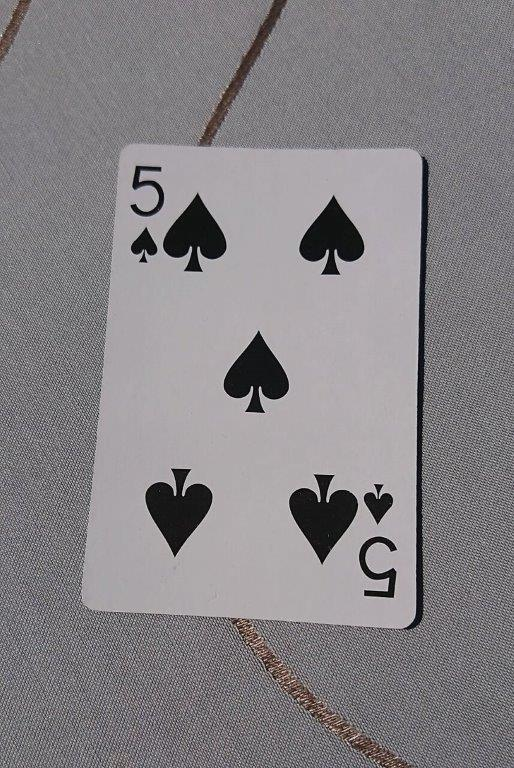5S: (81, 142, 425, 632)
